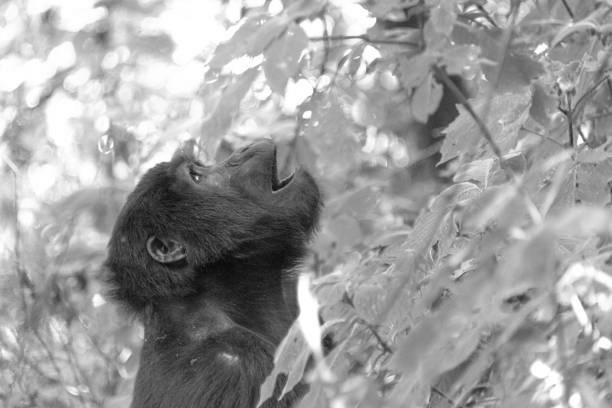goriile_montagne: (88, 113, 335, 408)
